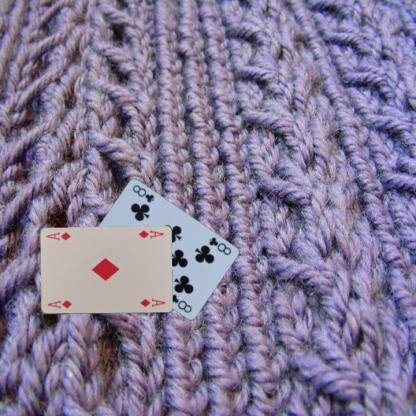8c: (206, 234, 232, 256)
Ad: (136, 226, 165, 240), (44, 298, 73, 310)
